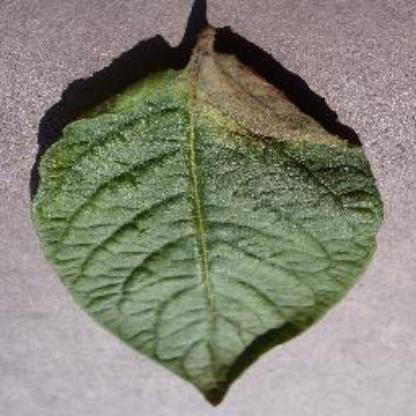Late-Blight: (27, 28, 387, 406)
